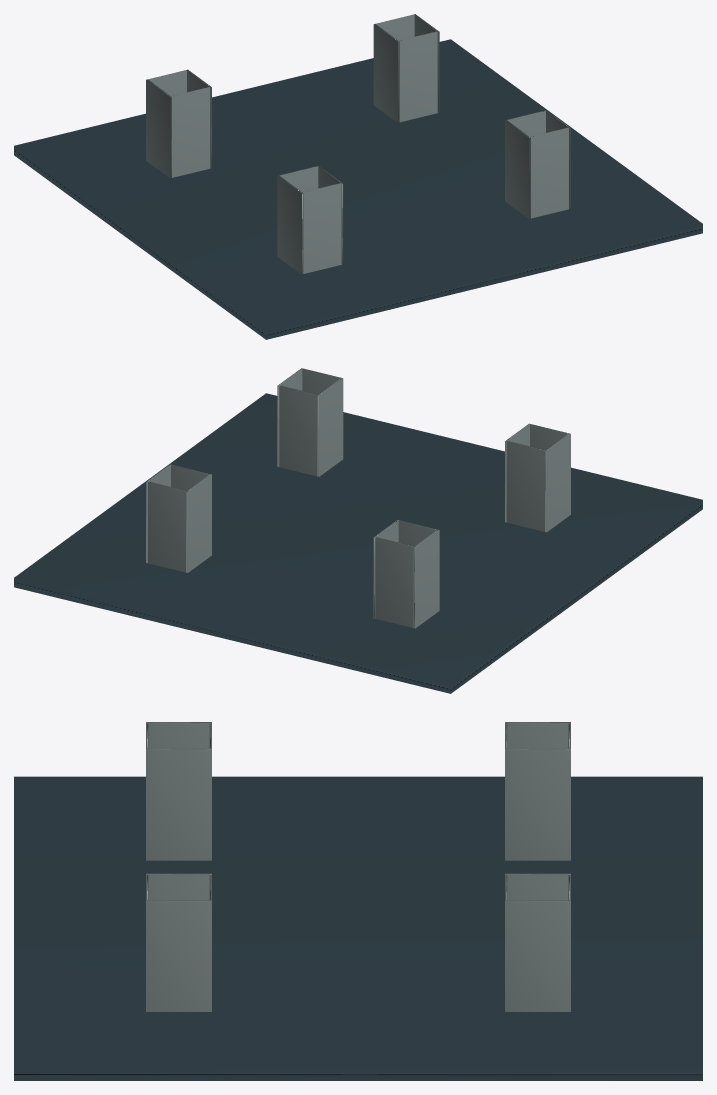
The model's file is corner_base.dae.
The picture shows the model from 3 angles, top to bottom: view 1: azimuth 30°, elevation 25°; view 2: azimuth 150°, elevation 25°; view 3: azimuth 270°, elevation 25°; orthographic projection. The views are drawn at different scales.
Parts seen in each view (by area): view 1: spreader, guide_0_y-1, guide_1_y-1, guide_3_y-1, guide_2_y-1, guide_0_x-1, guide_3_x-1, guide_1_x-1, guide_2_x-1, guide_0_y1, guide_3_y1, guide_2_y1 (+3 smaller); view 2: spreader, guide_1_y1, guide_0_y1, guide_2_y1, guide_3_y1, guide_1_x-1, guide_2_x-1, guide_0_x-1, guide_3_x-1, guide_1_y-1, guide_2_y-1, guide_3_y-1 (+3 smaller); view 3: spreader, guide_0_x1, guide_1_x1, guide_2_x1, guide_3_x1, guide_2_x-1, guide_3_x-1, guide_0_x-1, guide_1_x-1.
Part boxes in pixels (x1,y1,x2,y2): spreader: (14,39,702,339); guide_0_y-1: (302,183,341,273); guide_1_y-1: (171,87,210,177); guide_3_y-1: (399,31,437,122); guide_2_y-1: (530,127,568,218); guide_0_x-1: (277,175,303,274); guide_3_x-1: (373,24,399,122); guide_1_x-1: (146,79,171,178); guide_2_x-1: (505,120,530,218); guide_0_y1: (279,166,318,192); guide_3_y1: (375,14,414,40); guide_2_y1: (507,110,545,136); spreader: (14,393,702,693); guide_1_y1: (375,537,414,627); guide_0_y1: (506,441,545,531); guide_2_y1: (279,385,317,476); guide_3_y1: (148,481,186,572); guide_1_x-1: (413,529,439,628); guide_2_x-1: (317,378,343,476); guide_0_x-1: (545,433,570,532); guide_3_x-1: (186,474,211,572); guide_1_y-1: (398,520,437,546); guide_2_y-1: (302,368,341,394); guide_3_y-1: (171,464,209,490); spreader: (14,776,702,1080); guide_0_x1: (146,748,211,860); guide_1_x1: (505,748,570,860); guide_2_x1: (146,900,211,1011); guide_3_x1: (505,900,570,1011); guide_2_x-1: (146,873,211,900); guide_3_x-1: (505,873,570,900); guide_0_x-1: (146,722,211,748); guide_1_x-1: (505,722,570,748).
Bounding box in the file's own units: 0.96 × 0.96 × 0.19.
